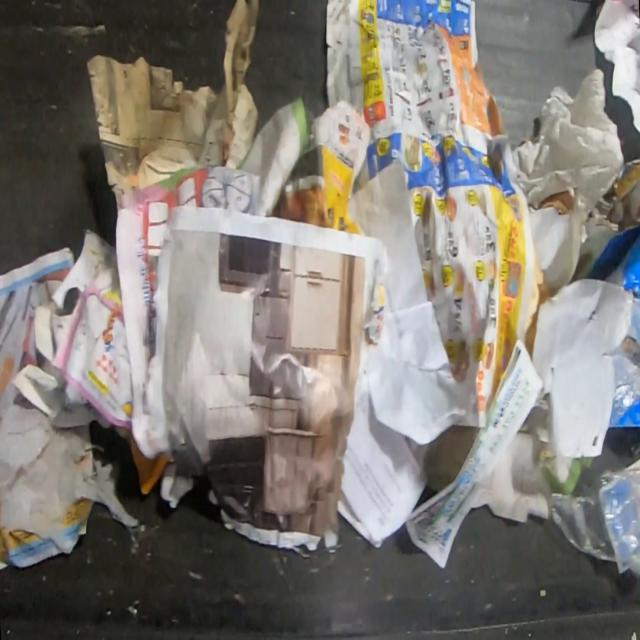cardboard: (570, 213, 640, 428), (312, 96, 374, 237), (592, 0, 640, 138), (594, 157, 640, 230), (128, 425, 170, 496), (540, 190, 574, 215)
soft_plastic: (0, 356, 141, 552), (513, 66, 625, 288), (546, 465, 640, 581)
